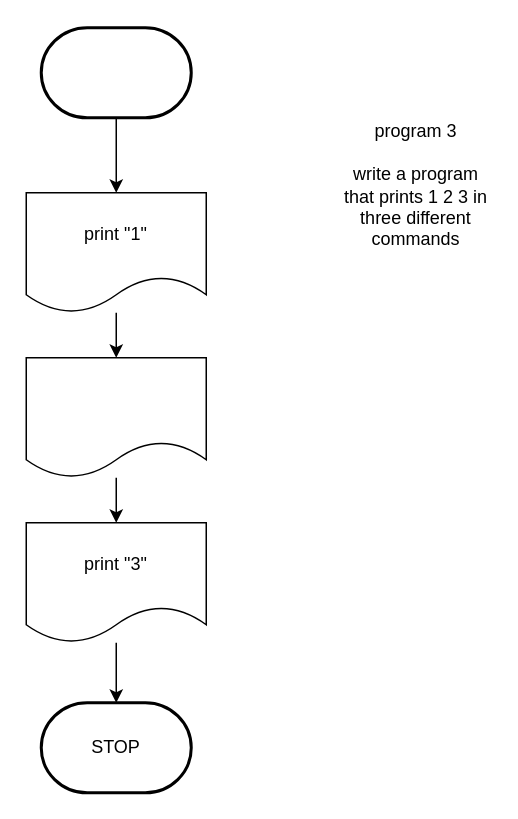
This 518x819 diagram has some shape labels left out. Here are the shapes that lost their labels. From the top down, the box of each, then its label:
(39, 26, 192, 118): START
(25, 356, 206, 478): print "2"
